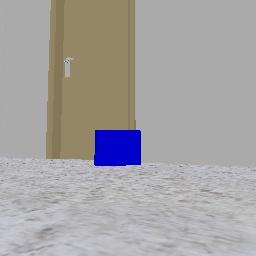albastru: (95, 130, 140, 165)
